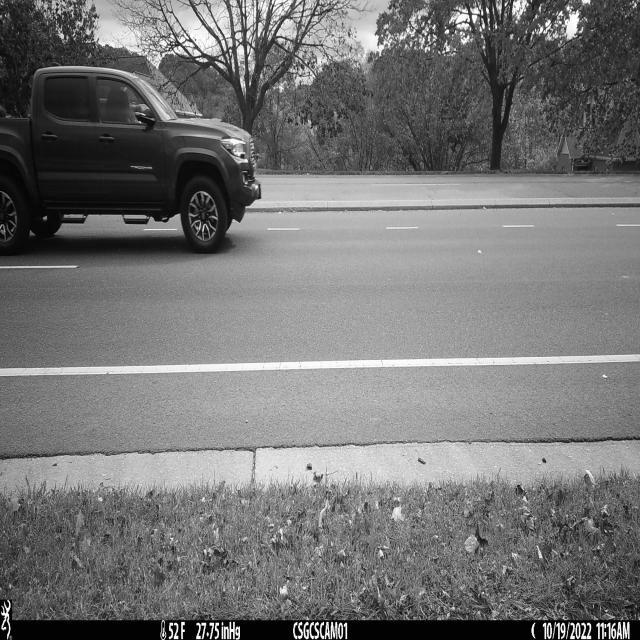SUV: (0, 62, 262, 254)
